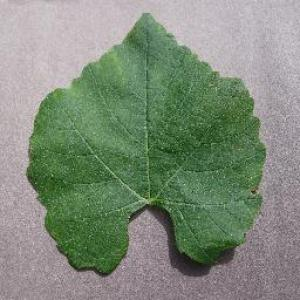Folha: (25, 11, 266, 276)
